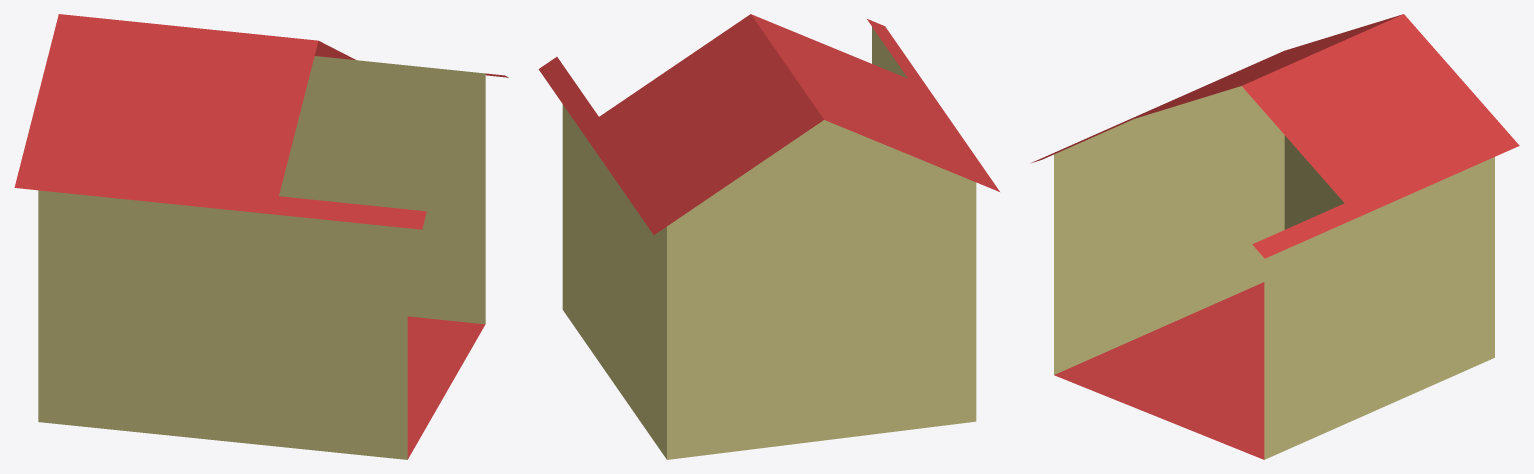
3 views of the same model, side by side, from view 1: azimuth 30°, elevation 25°; view 2: azimuth 150°, elevation 25°; view 3: azimuth 270°, elevation 25° (orthographic). The views are drawn at different scales.
Bounding box in the file's own units: 14.07 × 14.03 × 9.36.
